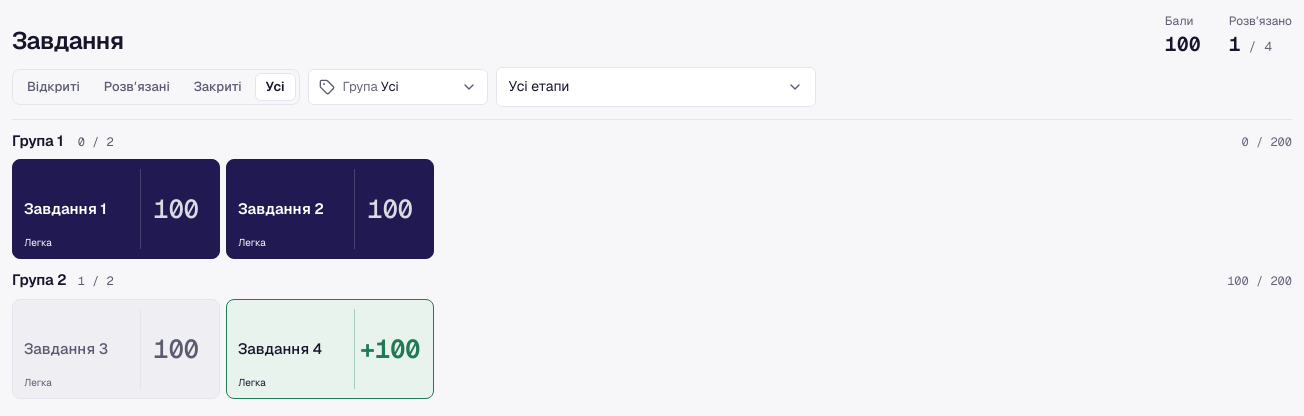
the board filters › defaults to «Усі»; «Відкриті» narrows to open tasks. One row of status segments, no «Активні» toggle
The width and height of the screenshot is (1304, 416).
Click the button "Відкриті": click(53, 87) [16, 73, 91, 101]
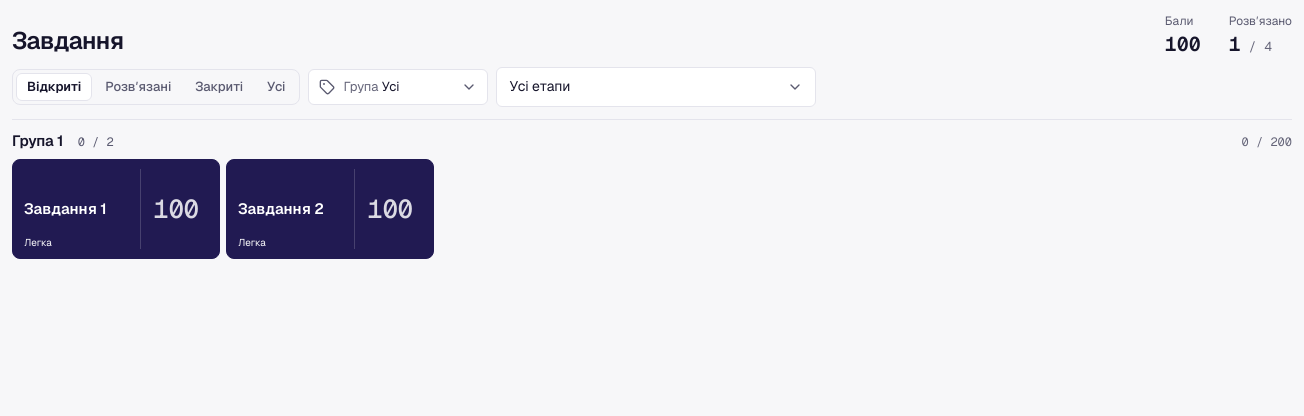
Check: the buttons read "Відкриті", "Розвʼязані", "Закриті", "Усі", in this order, box [16, 73, 92, 101]; [94, 73, 182, 101]; [184, 73, 254, 101]; [256, 73, 296, 101]
Check: the heading "Група 2" is gone
